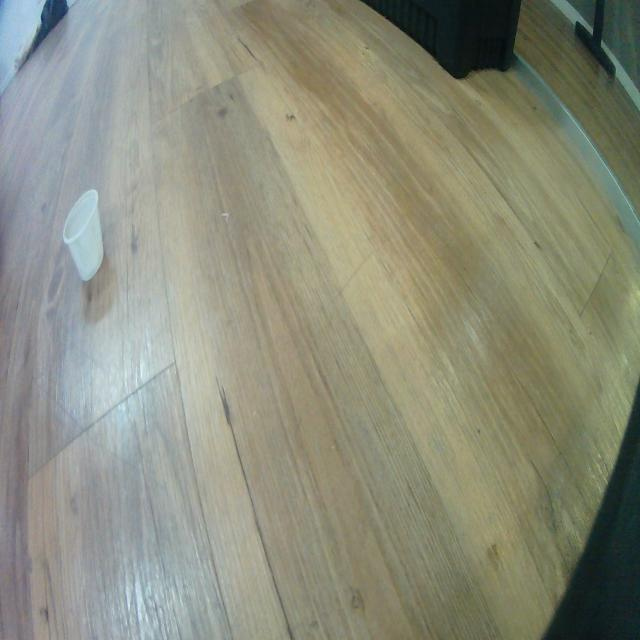planta: (62, 189, 105, 283)
